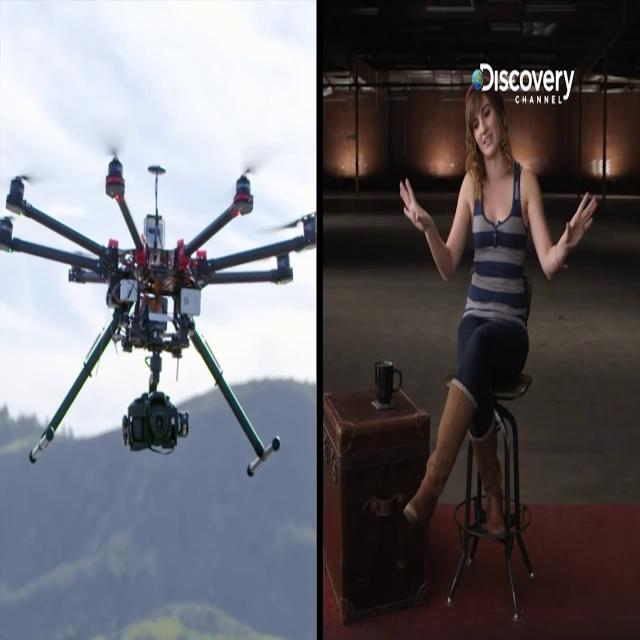drone: (3, 99, 310, 499)
